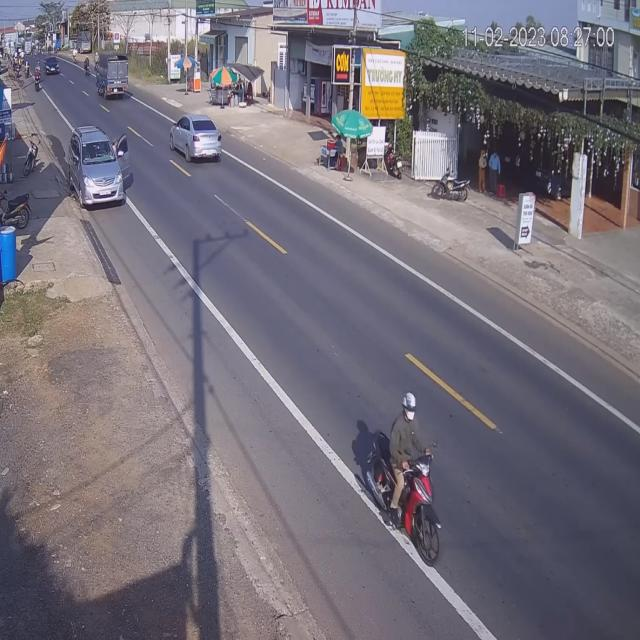car: (68, 126, 128, 209), (172, 115, 225, 167), (45, 57, 59, 78)
motorbike: (361, 392, 438, 564)
truck: (96, 53, 128, 101)
